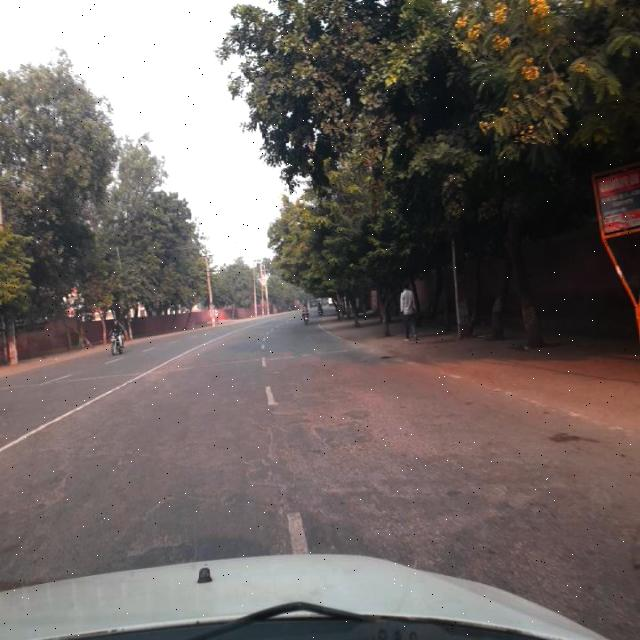D44: (496, 388, 639, 433), (348, 341, 490, 386)
